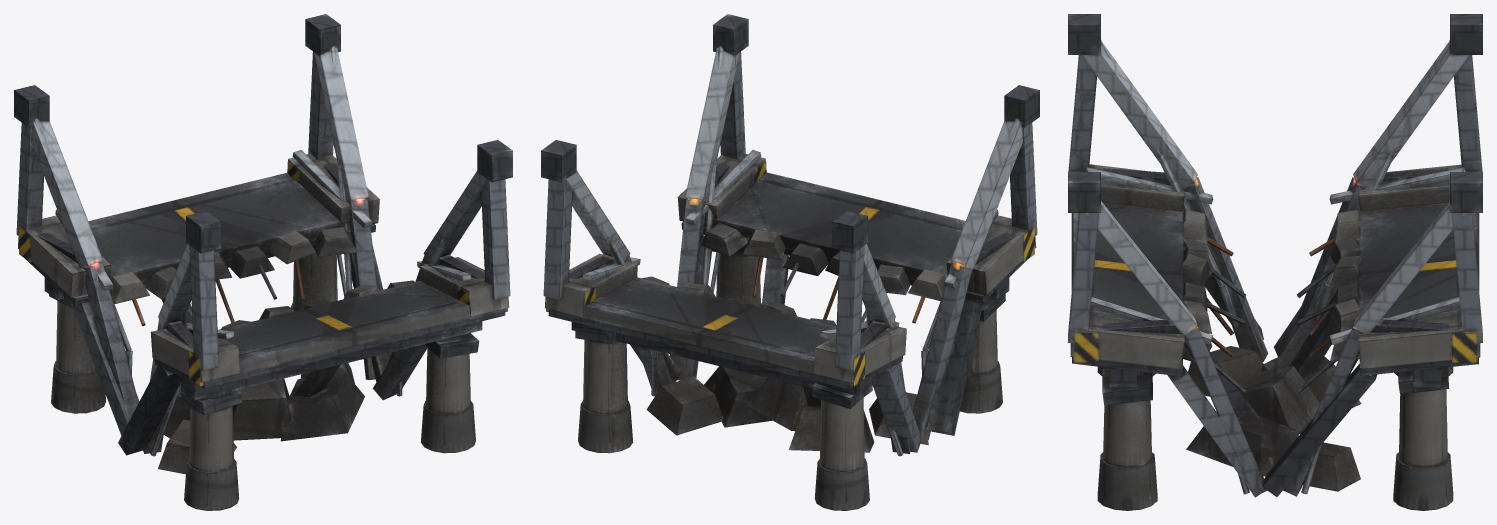
File: bridge_span_destroyed.glb
The picture shows the model from 3 angles, left to right: view 1: azimuth 30°, elevation 25°; view 2: azimuth 150°, elevation 25°; view 3: azimuth 270°, elevation 25°; orthographic projection. The views are drawn at different scales.
Visible parts, largest first — view 1: Hull; view 2: Hull; view 3: Hull.
Boxes of the visible parts, x1,y1,x2,y2 form: Hull: [14, 14, 512, 510]; Hull: [541, 14, 1039, 510]; Hull: [1068, 14, 1482, 510].
Size of what is drawn, in the model's own units: 1.95 by 1.85 by 2.02.
1 material, 1 textured.
